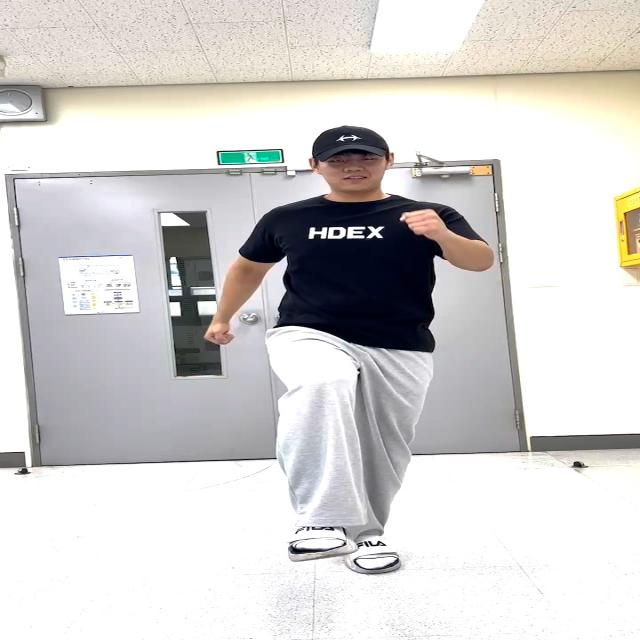leg: (265, 334, 359, 558)
